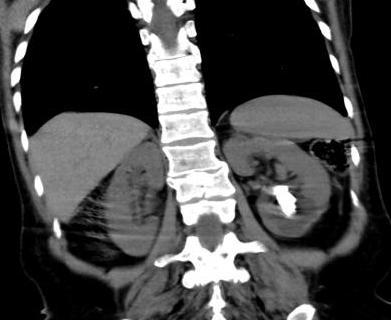Tas_Var: (270, 184, 308, 218)
